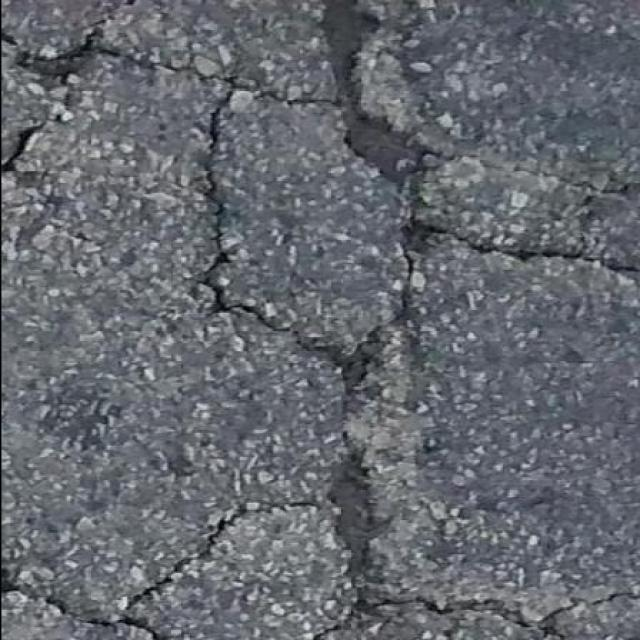Crack: (104, 440, 628, 640), (233, 0, 544, 270), (0, 1, 179, 172), (257, 278, 412, 422), (199, 92, 253, 319), (462, 244, 636, 278), (0, 568, 88, 618), (547, 180, 638, 198), (312, 612, 351, 640)
